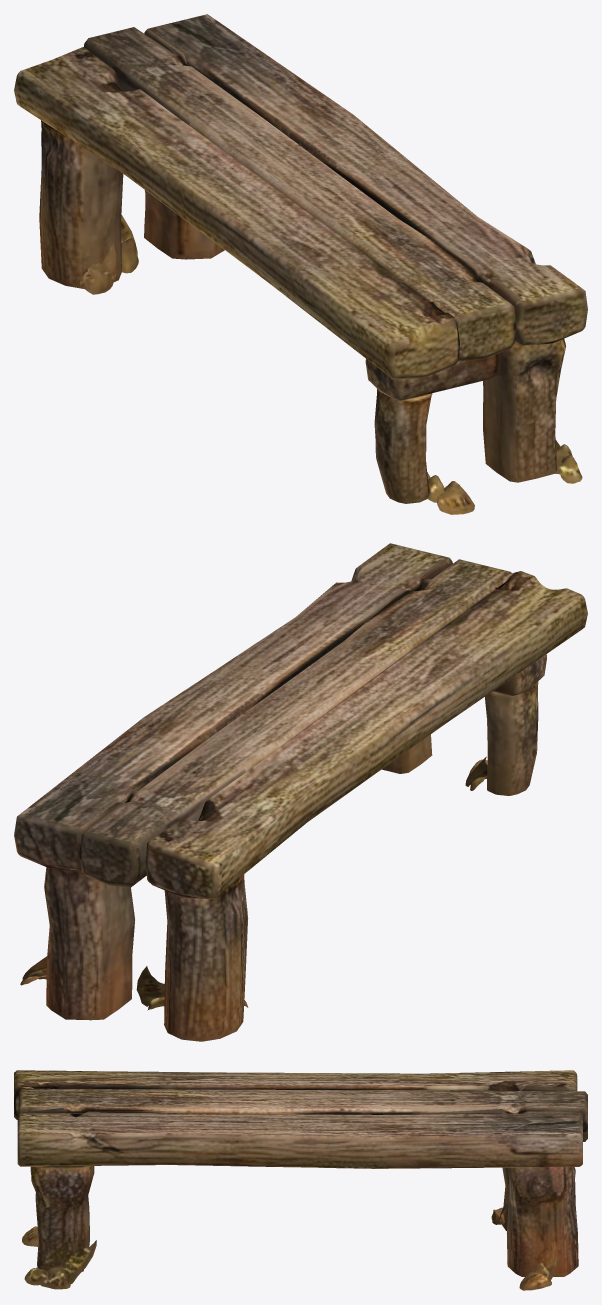
The model's file is sceniclandscape.lite.glb.
3 renders of one model, top to bottom at view 1: azimuth 30°, elevation 25°; view 2: azimuth 150°, elevation 25°; view 3: azimuth 270°, elevation 25°, orthographic. The views are drawn at different scales.
Visible parts, largest first — view 1: model; view 2: model; view 3: model.
Part boxes in pixels (x1=…): model: x1=14, y1=14, x2=587, y2=514; model: x1=14, y1=543, x2=587, y2=1041; model: x1=14, y1=1070, x2=587, y2=1290.
Size of the model in its own units: 0.1294 by 0.1133 by 0.3901.
1 material, 1 textured.
